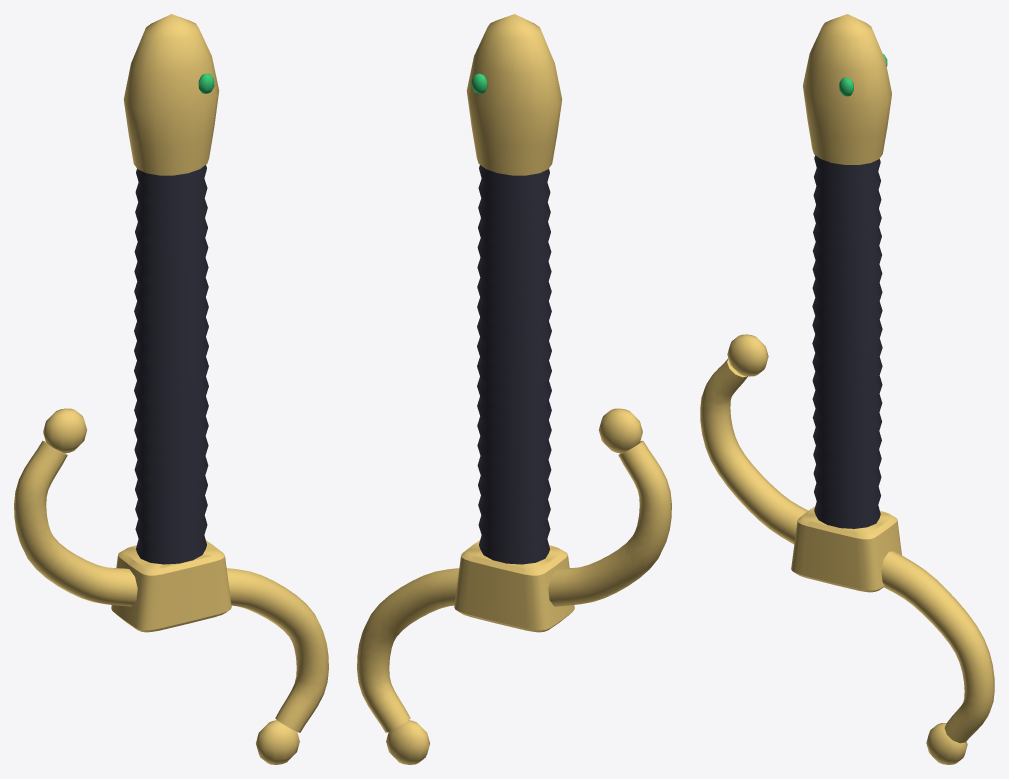
File: SerpentHiltGame.fbx
The picture shows the model from 3 angles, left to right: view 1: azimuth 30°, elevation 25°; view 2: azimuth 150°, elevation 25°; view 3: azimuth 330°, elevation 25°; orthographic projection. The views are drawn at different scales.
Visible parts, largest first — view 1: Grip, Guard, Pommel; view 2: Grip, Guard, Pommel; view 3: Grip, Guard, Pommel.
Part boxes in pixels (x1,y1,x2,y2): Grip: [134, 165, 208, 564]; Guard: [14, 408, 328, 764]; Pommel: [123, 14, 219, 175]; Grip: [477, 165, 551, 564]; Guard: [357, 408, 671, 764]; Pommel: [466, 14, 562, 175]; Grip: [812, 155, 882, 528]; Guard: [700, 334, 994, 764]; Pommel: [803, 14, 891, 164].
Size of the model in its own units: 0.6415 by 1.53 by 0.1497.
